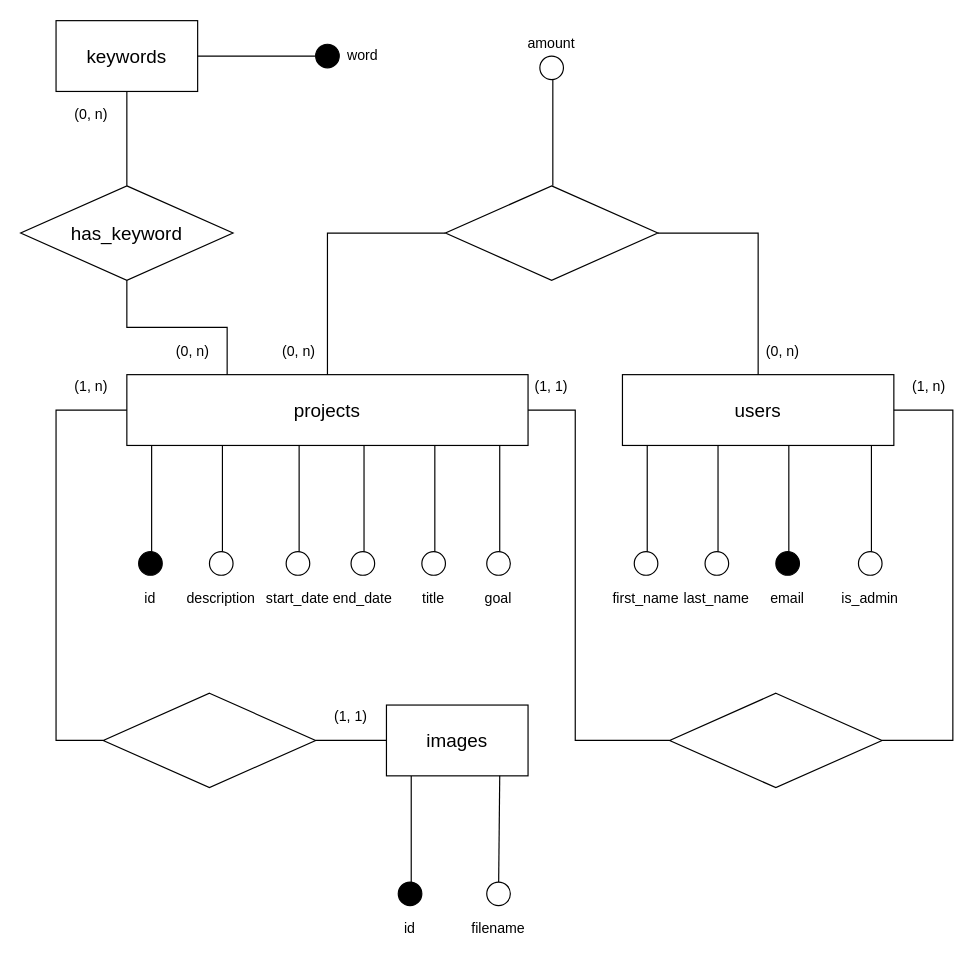
Image size: 975x962. Some labels were removed from this diagram. The box of each missing label's shape, as (x1, y1, x2, y2) in pixels:
created_by: (668, 692, 882, 788)
funds: (444, 185, 658, 280)
has_image: (102, 692, 316, 788)
